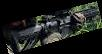gun: (1, 1, 102, 54)
